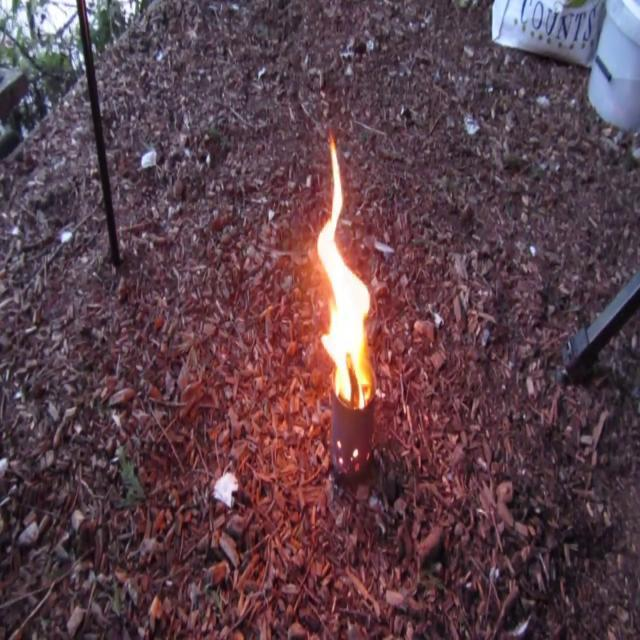Fire: (306, 144, 376, 398)
